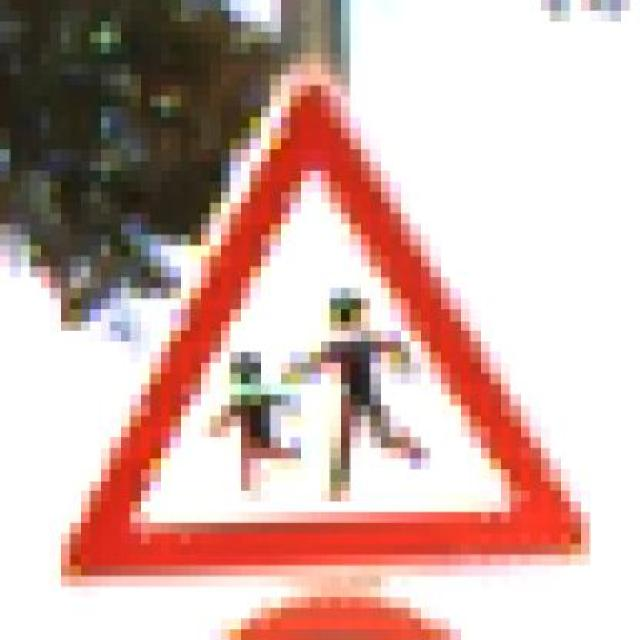Beware of children: (50, 53, 590, 587)
